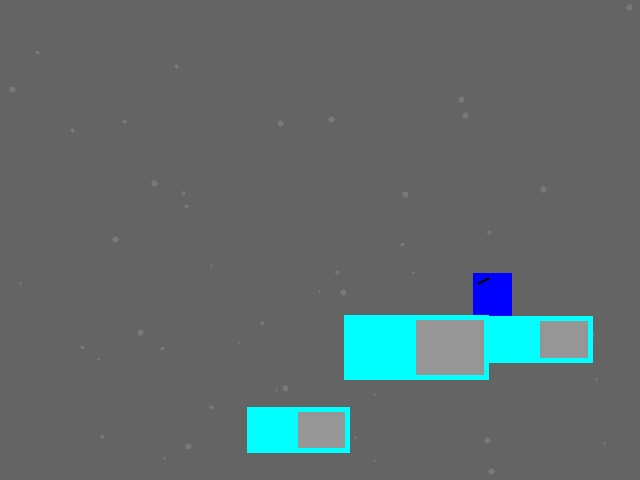motorcycle: (473, 273, 511, 350)
truck: (344, 315, 488, 379), (489, 316, 592, 362), (247, 407, 349, 452)
